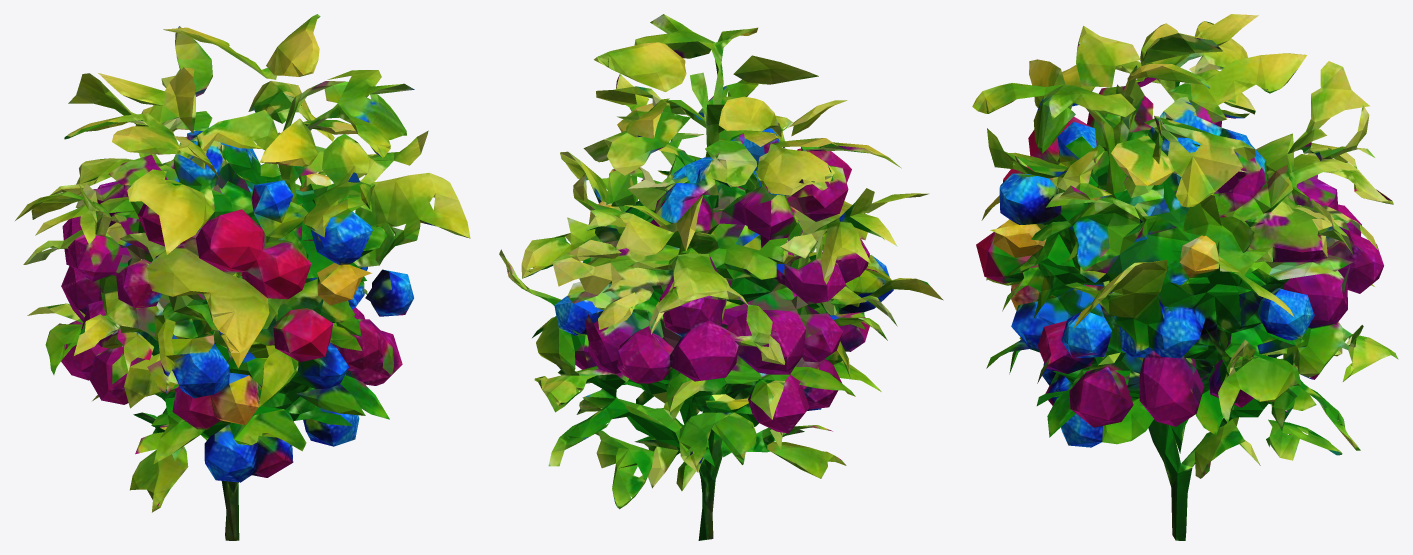
The model's file is berry_bush.glb.
3 views of the same model, side by side, from view 1: azimuth 30°, elevation 25°; view 2: azimuth 150°, elevation 25°; view 3: azimuth 270°, elevation 25° (orthographic). The views are drawn at different scales.
Visible parts, largest first — view 1: tmpjyg86stx.ply; view 2: tmpjyg86stx.ply; view 3: tmpjyg86stx.ply.
Boxes of the visible parts, x1=… form: tmpjyg86stx.ply: x1=15, y1=14, x2=470, y2=540; tmpjyg86stx.ply: x1=499, y1=14, x2=943, y2=540; tmpjyg86stx.ply: x1=972, y1=14, x2=1398, y2=540.
Bounding box in the file's own units: 1.53 × 1.85 × 1.41.
1 material, 1 textured.
